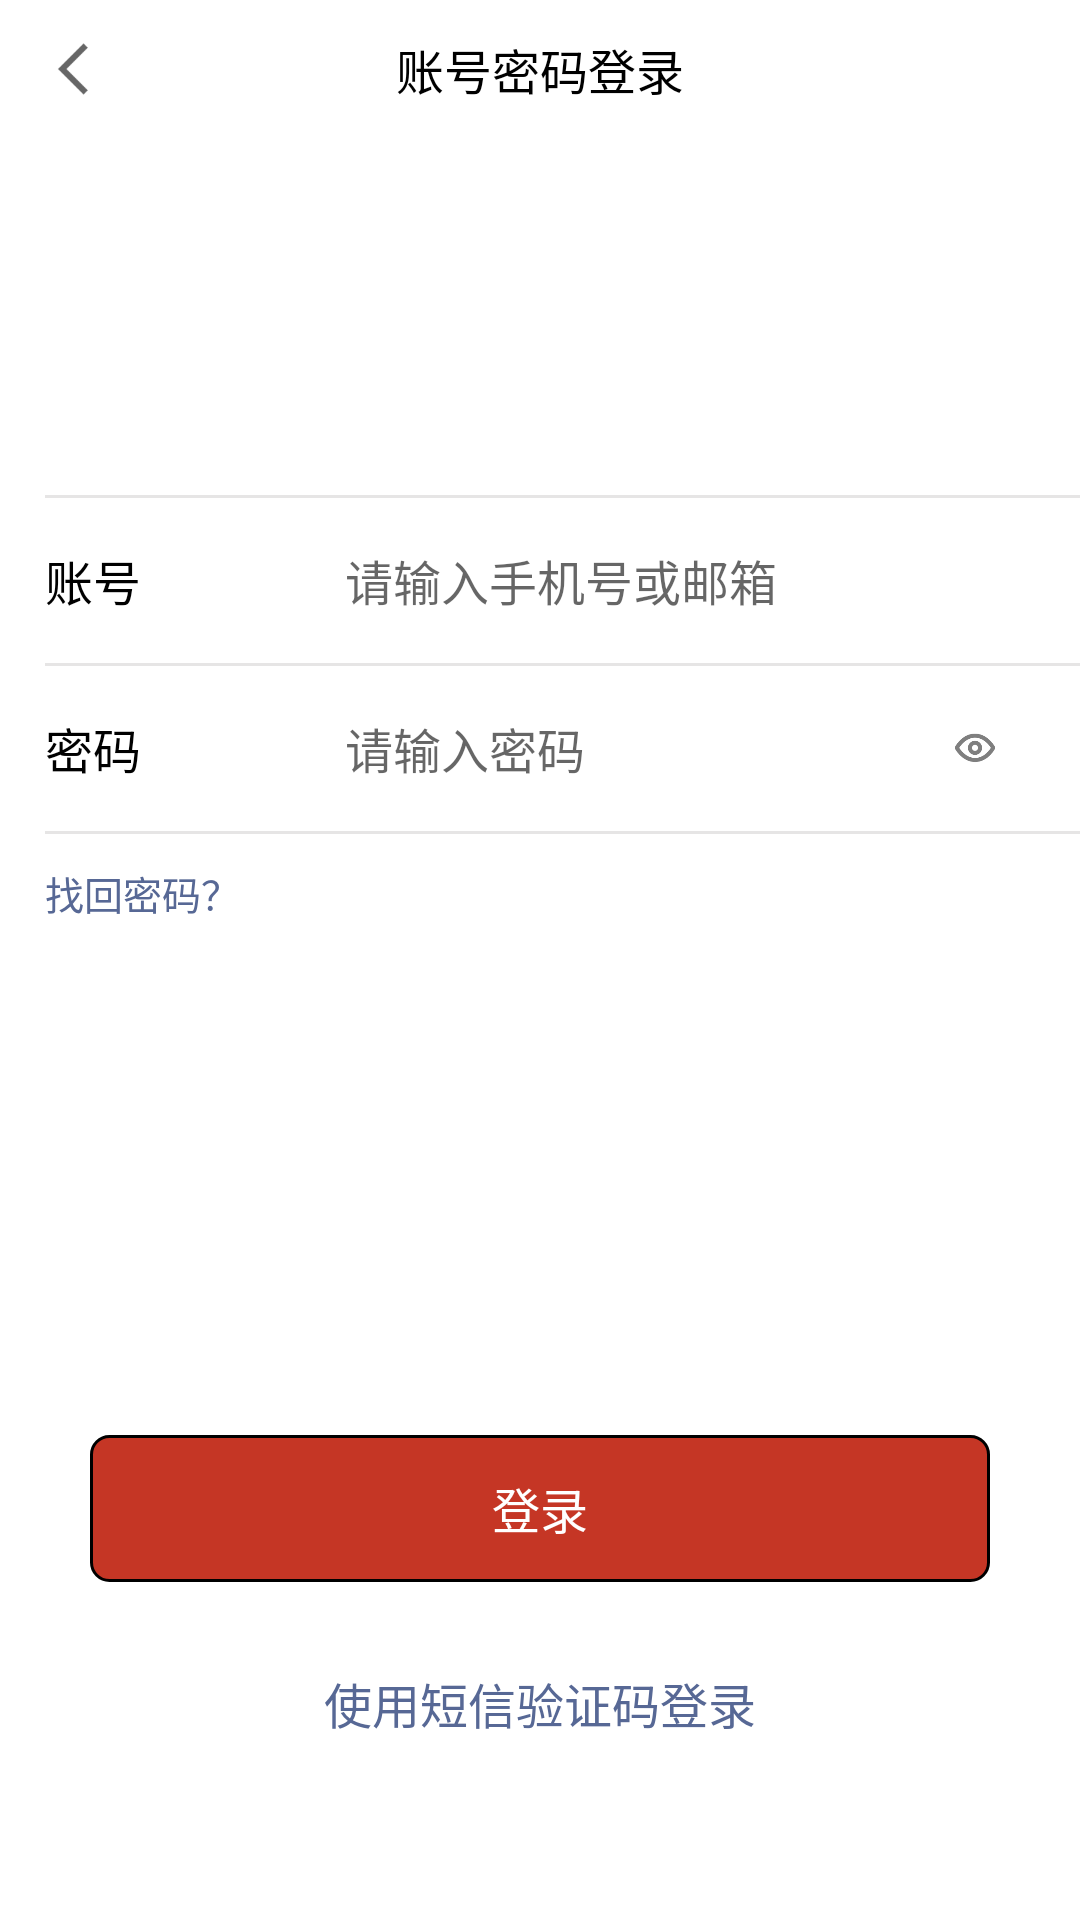

Icon bounding boxes for this 1080w x 1920h phone screenshot, format box(x1, y1, x2, y2):
visible: box(955, 734, 995, 762)
